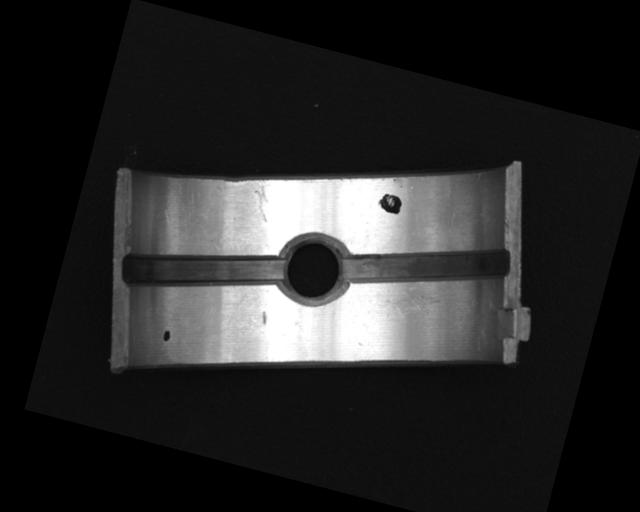blot: (374, 191, 404, 216), (160, 328, 172, 343)
bruise: (259, 309, 269, 325)
gap: (340, 213, 511, 321), (119, 222, 285, 321)
hole: (270, 228, 356, 311)
nick: (247, 178, 277, 224)
scratch: (379, 279, 448, 330)
